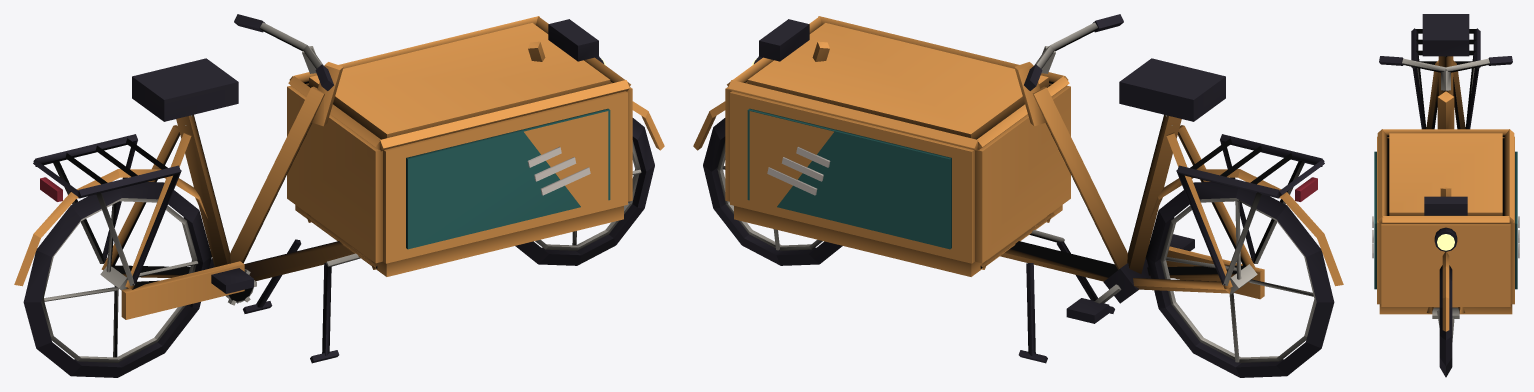
Rendered from veh.courier-bike.lod1.glb.
3 renders of one model, left to right at view 1: azimuth 30°, elevation 25°; view 2: azimuth 150°, elevation 25°; view 3: azimuth 270°, elevation 25°, orthographic. The views are drawn at different scales.
Visible parts, largest first — view 1: cargo_box, body, wheel_rear, saddle_mount, wheel_front, kickstand, handlebar, pedal_r; view 2: cargo_box, body, wheel_rear, saddle_mount, wheel_front, handlebar, kickstand, pedal_l; view 3: cargo_box, body, saddle_mount, wheel_front, handlebar, lightsFront.
Part boxes in pixels (left/top/right/bottom): cargo_box: left=287, top=16, right=632, bottom=276; body: left=14, top=19, right=664, bottom=319; wheel_rear: left=23, top=182, right=211, bottom=377; saddle_mount: left=132, top=58, right=238, bottom=121; wheel_front: left=515, top=118, right=654, bottom=265; kickstand: left=243, top=239, right=339, bottom=363; handlebar: left=234, top=14, right=333, bottom=90; pedal_r: left=211, top=268, right=253, bottom=293; cargo_box: left=725, top=16, right=1070, bottom=276; body: left=693, top=19, right=1343, bottom=303; wheel_rear: left=1146, top=182, right=1334, bottom=377; saddle_mount: left=1119, top=58, right=1225, bottom=121; wheel_front: left=703, top=118, right=842, bottom=265; handlebar: left=1024, top=14, right=1123, bottom=90; kickstand: left=1018, top=241, right=1114, bottom=363; pedal_l: left=1066, top=298, right=1109, bottom=323; cargo_box: left=1372, top=129, right=1519, bottom=314; body: left=1411, top=28, right=1480, bottom=331; saddle_mount: left=1422, top=14, right=1469, bottom=56; wheel_front: left=1432, top=265, right=1459, bottom=377; handlebar: left=1379, top=56, right=1512, bottom=90; lightsFront: left=1434, top=227, right=1457, bottom=251.
Bounding box in the file's own units: 2.8 × 1.2 × 0.754.
